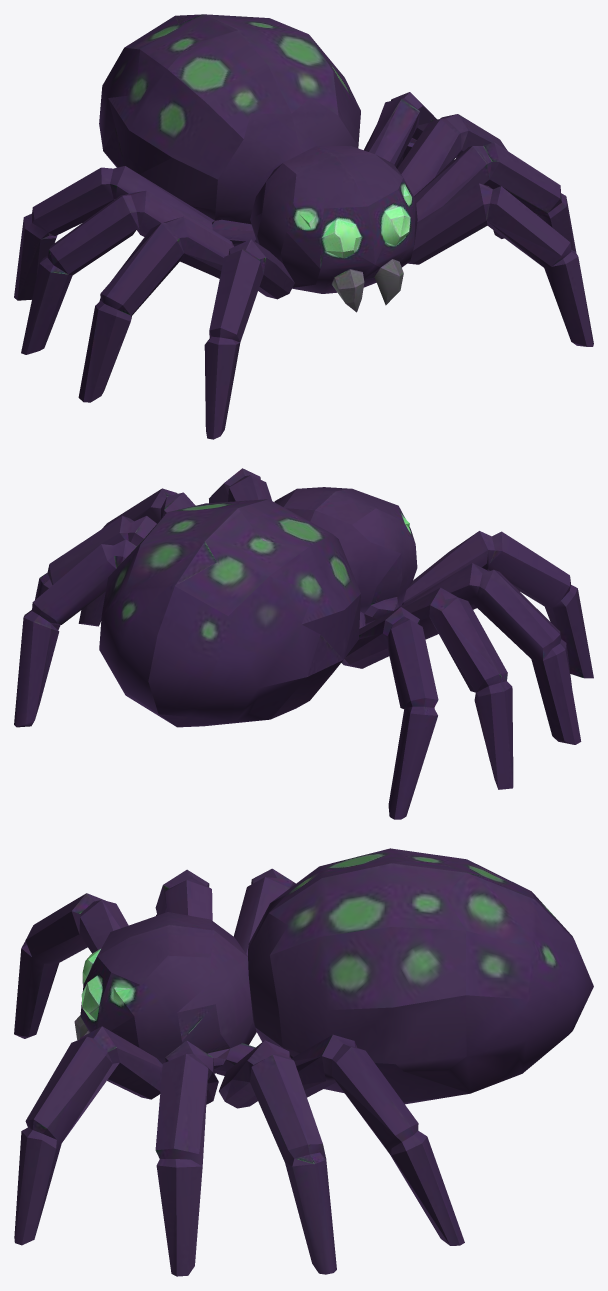
Rendered from spiderling.glb.
3 renders of one model, top to bottom at view 1: azimuth 30°, elevation 25°; view 2: azimuth 150°, elevation 25°; view 3: azimuth 270°, elevation 25°, orthographic. The views are drawn at different scales.
Visible parts, largest first — view 1: Abdomen, Head, R1, L2, L3, L1, L4, R2, Body, R3, R4; view 2: Abdomen, Body, L4, L2, L3, L1, R4, R3, R2, R1, Head; view 3: Abdomen, Body, R1, R4, R3, R2, Head, L1, L3, L2.
Part boxes in pixels (x1,y1,x2,y2): Abdomen: (99,14,369,224); Head: (262,155,417,312); R1: (407,183,593,346); L2: (78,216,233,402); L3: (21,191,233,354); L1: (204,239,294,439); L4: (14,166,255,300); R2: (414,142,576,252); Body: (250,146,402,257); R3: (397,114,507,238); R4: (364,92,436,168); Abdomen: (99,499,381,727); Body: (274,488,417,625); L4: (341,607,438,819); L2: (396,563,581,744); L3: (403,587,513,789); L1: (403,531,593,678); R4: (14,539,136,727); R3: (35,515,156,629); R2: (78,488,195,626); R1: (209,468,271,503); Head: (302,487,445,588); Abdomen: (248,848,593,1104); Body: (129,912,256,1073); R1: (14,1026,162,1245); R4: (218,1034,464,1245); R3: (219,1040,336,1274); R2: (155,1040,218,1276); Head: (74,912,176,1056); L1: (14,893,128,1038); L3: (233,868,295,955); L2: (155,869,212,920).
Size of the model in its own units: 2.15 by 1 by 1.91.
Materials: 1 (1 with a texture image).
